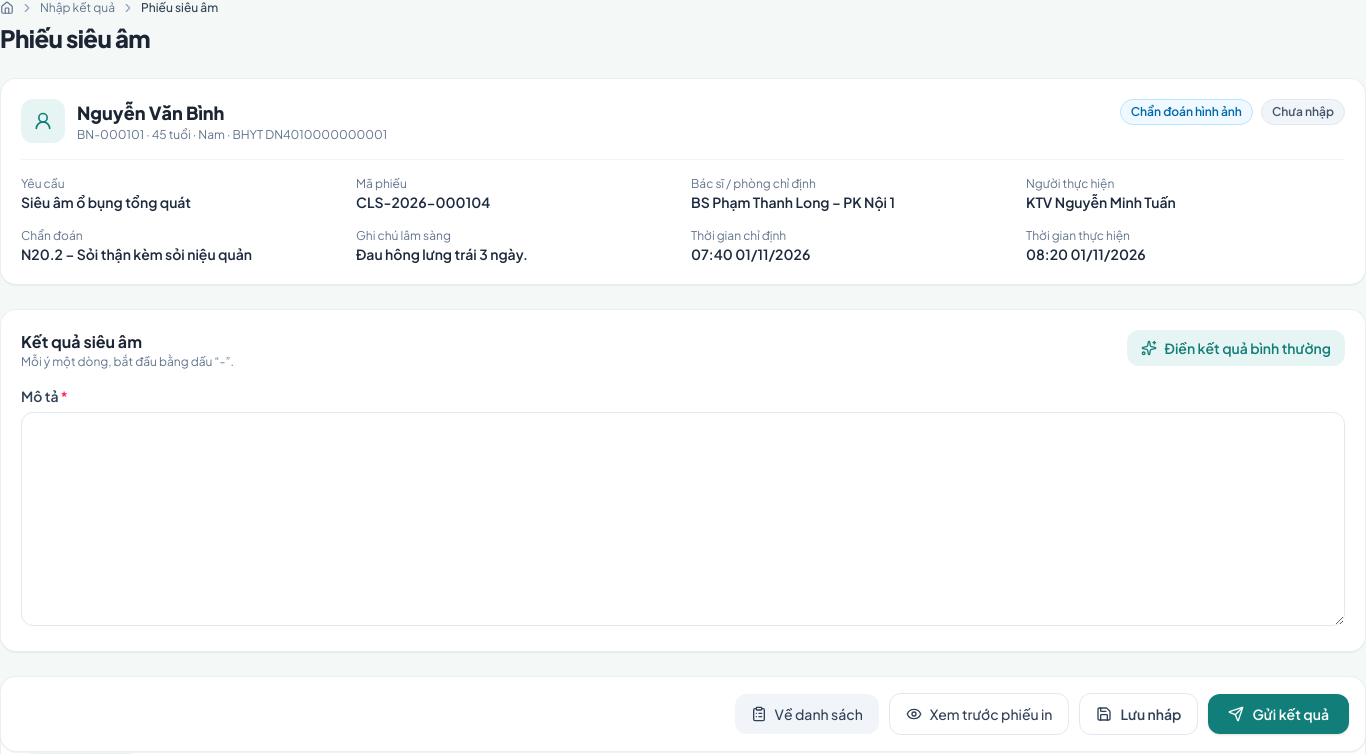
Scenario: ParaclinicalResultPage (UC-67, UC-68) › does not submit an ultrasound result without an image
The width and height of the screenshot is (1366, 754).
Click the button "Điền kết quả bình thường": (1236, 348) [1127,330,1345,366]
(page scrolled)
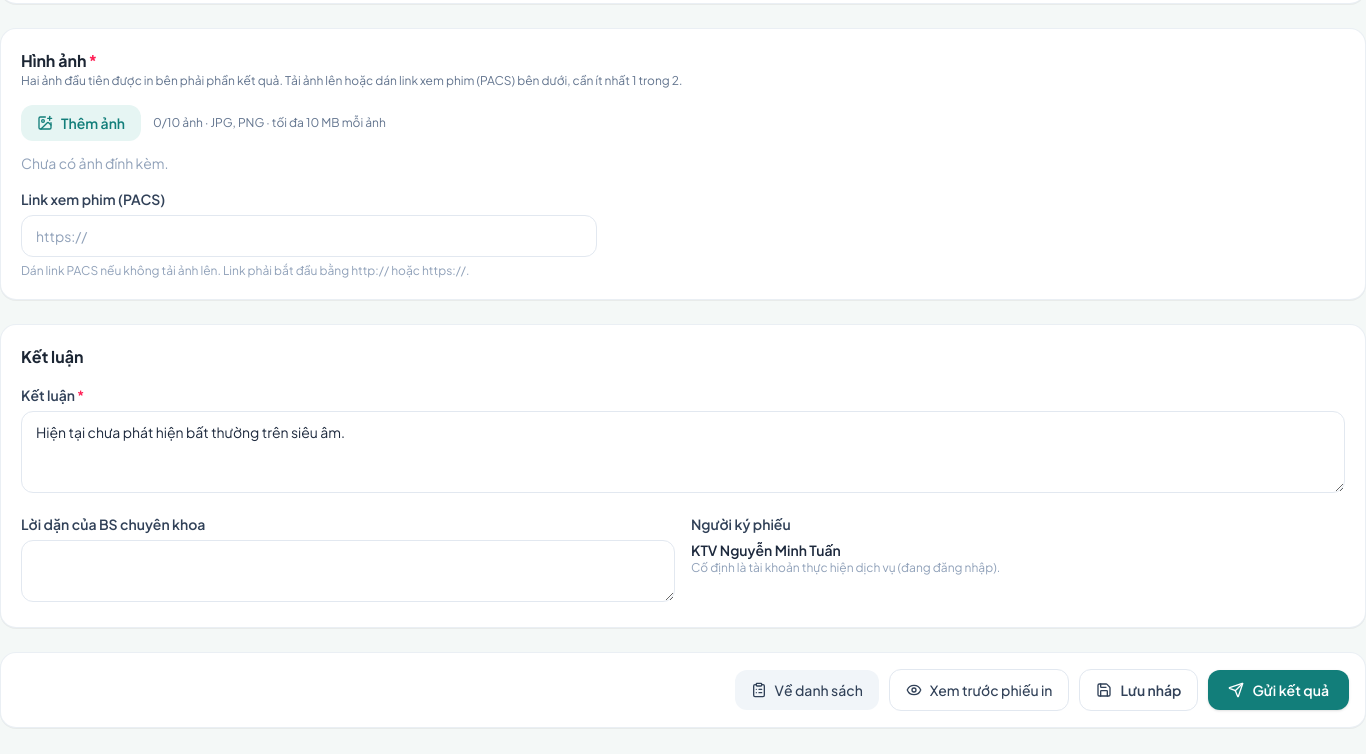
In the text box labelled "Kết luận*": (683, 452) [21,411,1345,493], type "Bình thường"
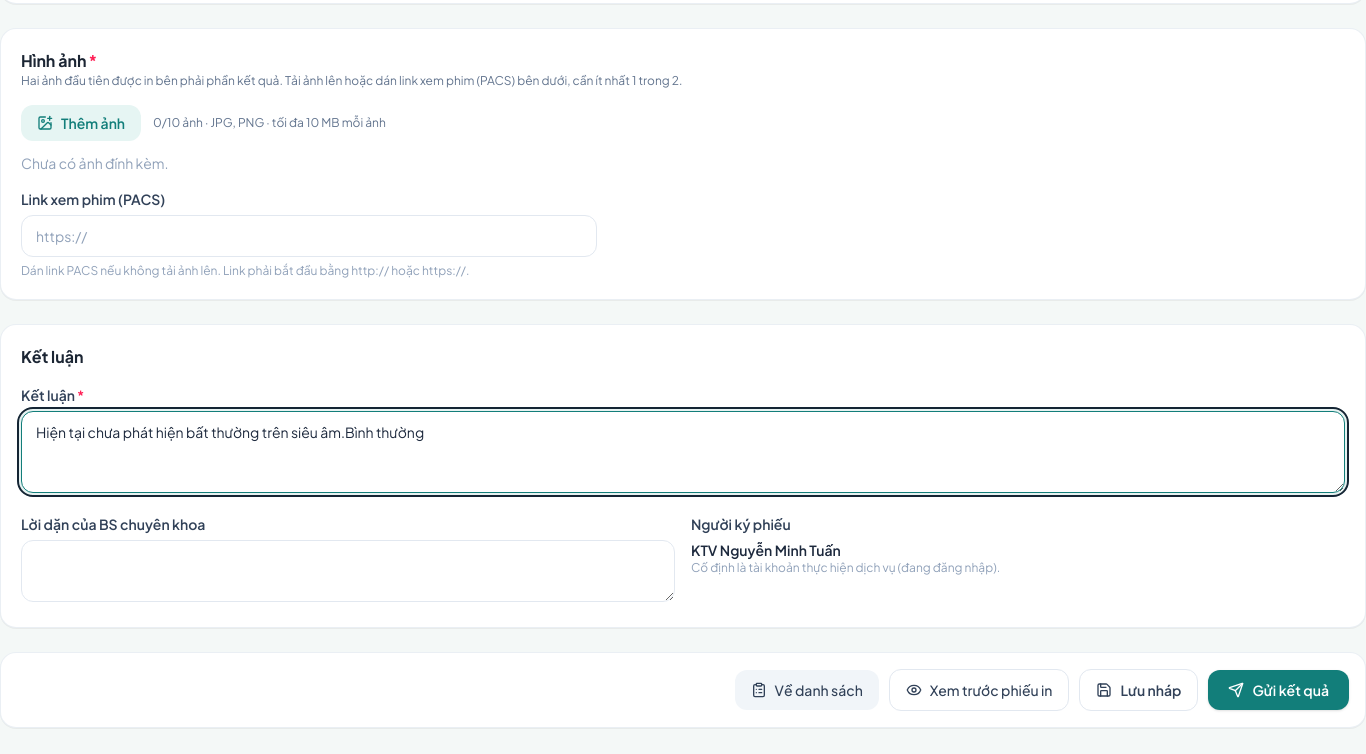
Click the button "Gửi kết quả": (1279, 690) [1208,670,1349,710]
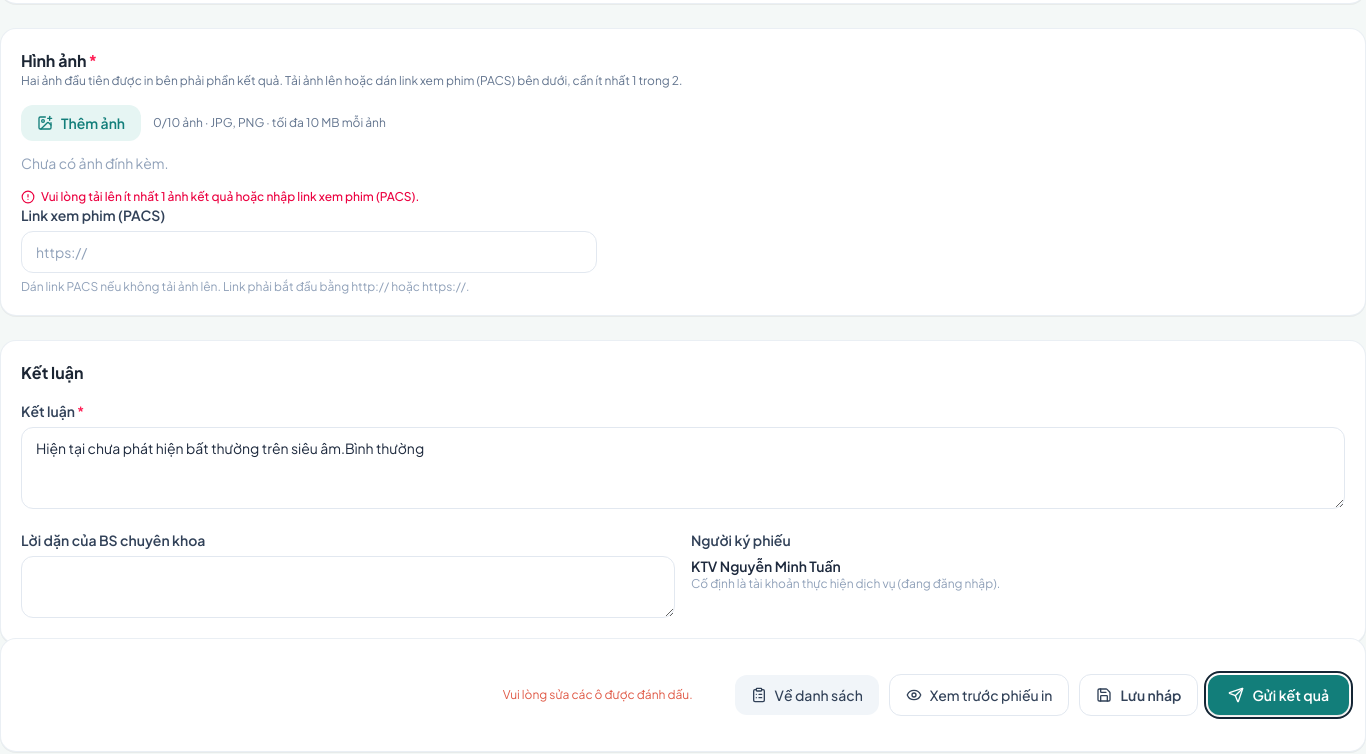
Expected: the text "Vui lòng tải lên ít nhất 1 ảnh kết quả hoặc nhập link xem phim (PACS)." is shown, [41,189,419,205]
